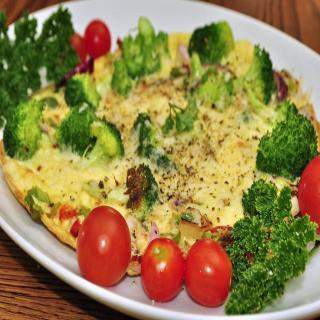tomato: (76, 204, 132, 286), (184, 237, 232, 307), (140, 238, 185, 303), (296, 155, 320, 231), (82, 18, 111, 57), (72, 29, 84, 61)
